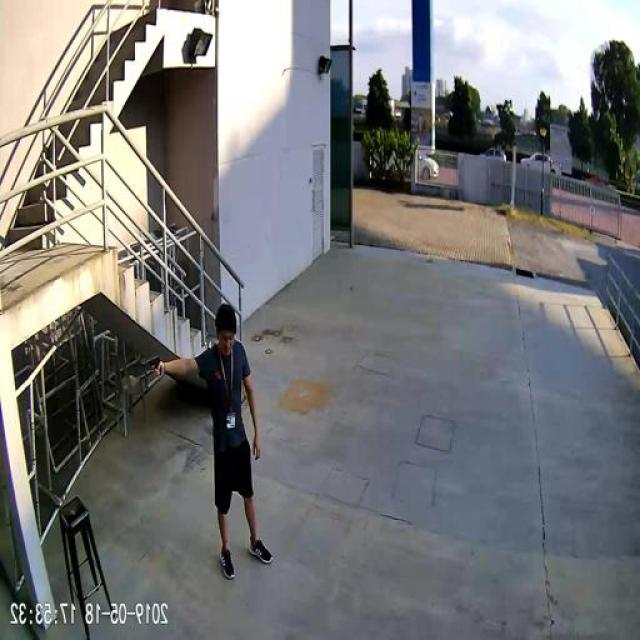Gun: (142, 351, 164, 375)
